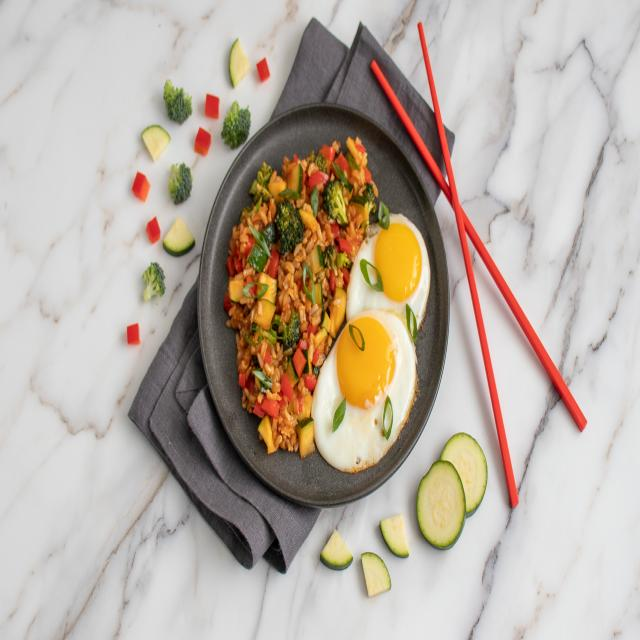Egg: (312, 311, 416, 471), (346, 213, 430, 324)
